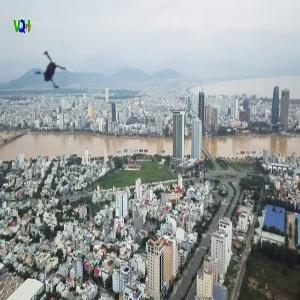drone: (11, 40, 74, 103)
